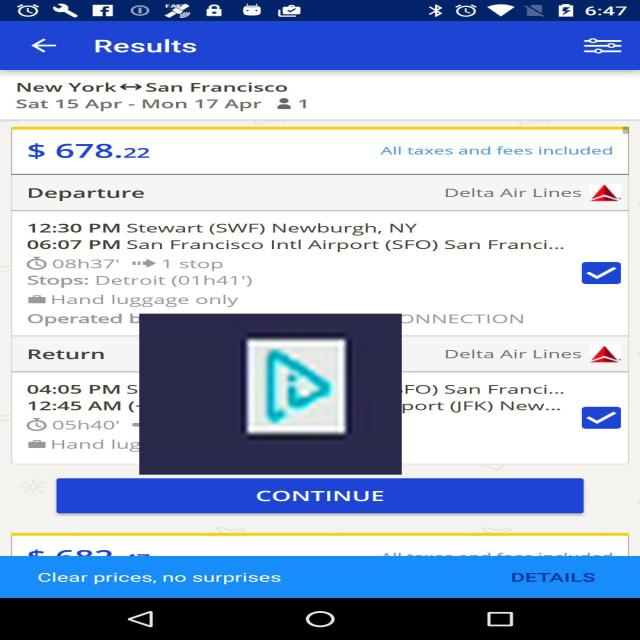sneaking: (139, 314, 402, 474)
